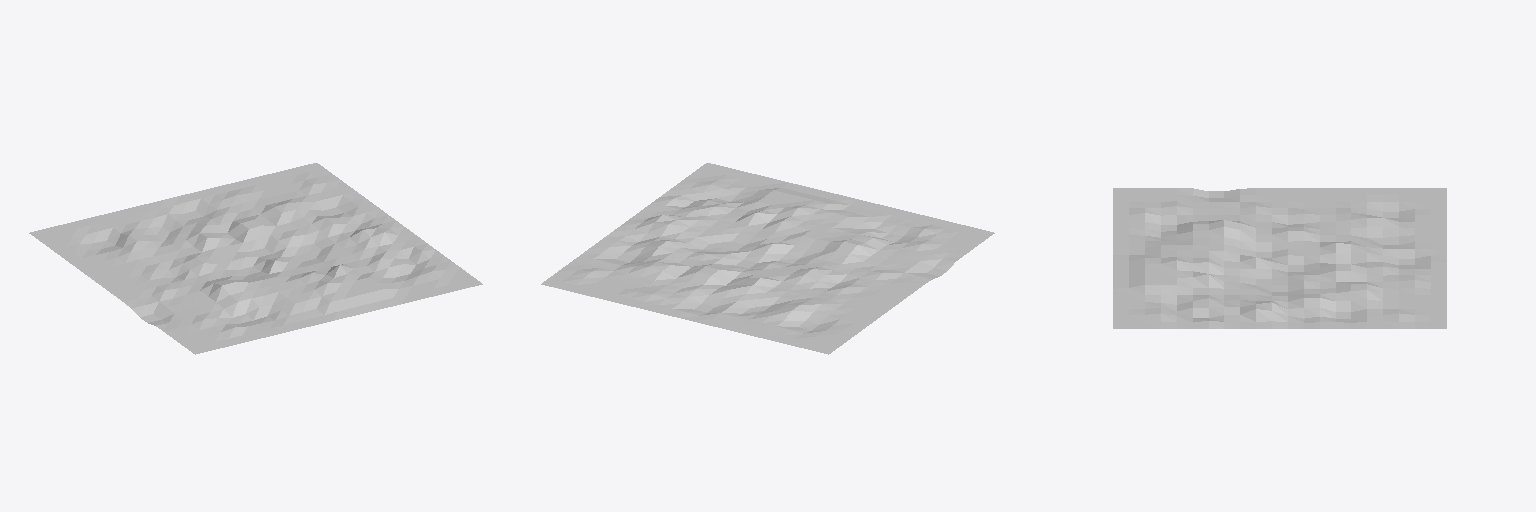
File: Terrain.obj
3 views of the same model, side by side, from view 1: azimuth 30°, elevation 25°; view 2: azimuth 150°, elevation 25°; view 3: azimuth 270°, elevation 25° (orthographic).
Parts seen in each view (by area): view 1: Plane; view 2: Plane; view 3: Plane.
Part boxes in pixels (bbox=[...]): Plane: bbox=[29, 163, 482, 354]; Plane: bbox=[541, 163, 994, 354]; Plane: bbox=[1113, 188, 1446, 328].
Size of the model in its own units: 16.23 by 0.6308 by 16.23.